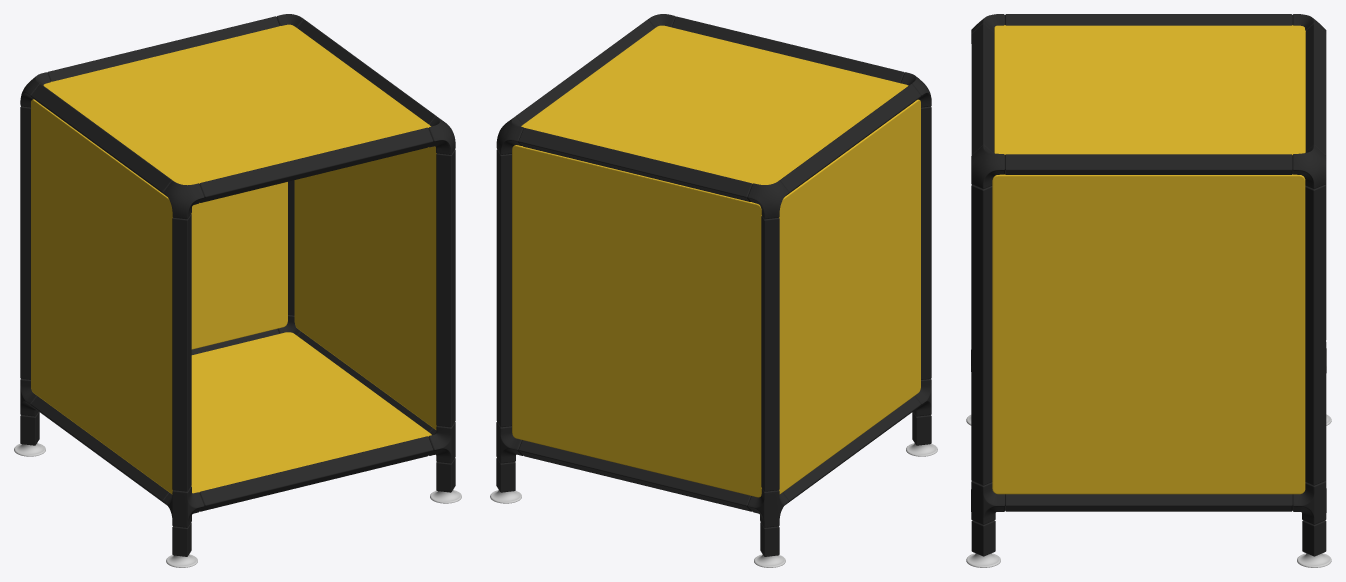
The picture shows the model from 3 angles, left to right: view 1: azimuth 30°, elevation 25°; view 2: azimuth 150°, elevation 25°; view 3: azimuth 270°, elevation 25°; orthographic projection. The views are drawn at different scales.
Parts seen in each view (by area): view 1: 329x329x374; view 2: 329x329x374; view 3: 329x329x374.
Part boxes in pixels (x1=…): 329x329x374: x1=14, y1=14, x2=461, y2=567; 329x329x374: x1=490, y1=14, x2=937, y2=567; 329x329x374: x1=966, y1=14, x2=1331, y2=567.
Size of the model in its own units: 0.4189 by 0.5133 by 0.4182.
